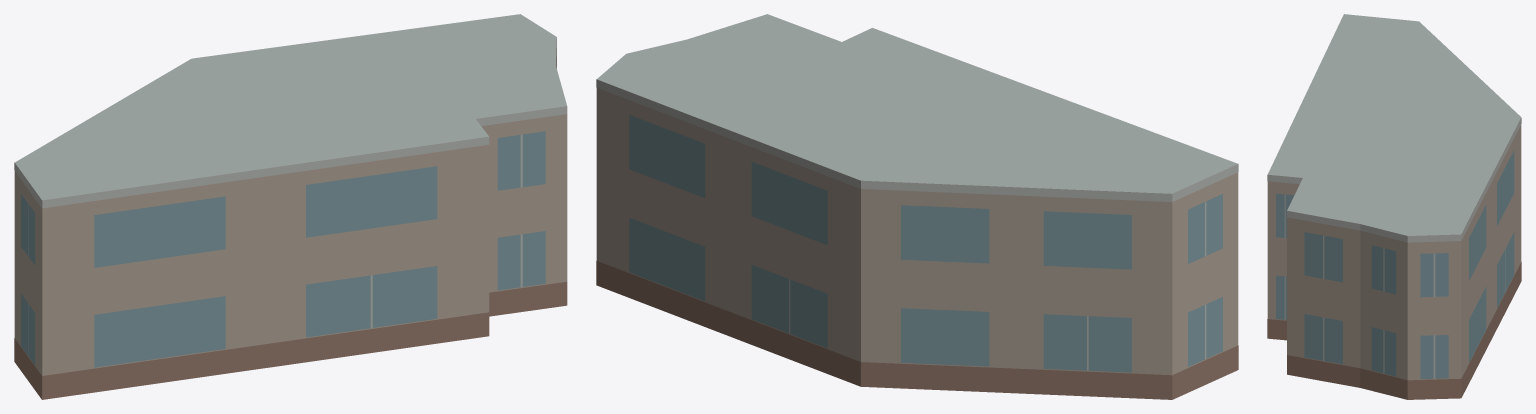
Rendered from survey-upis-33031118.glb.
The picture shows the model from 3 angles, left to right: view 1: azimuth 30°, elevation 25°; view 2: azimuth 150°, elevation 25°; view 3: azimuth 270°, elevation 25°; orthographic projection. The views are drawn at different scales.
Visible parts, largest first — view 1: survey-upis-33031118.tmp; view 2: survey-upis-33031118.tmp; view 3: survey-upis-33031118.tmp.
Part boxes in pixels (x1,y1,x2,y2): survey-upis-33031118.tmp: [14, 14, 567, 399]; survey-upis-33031118.tmp: [596, 14, 1238, 399]; survey-upis-33031118.tmp: [1267, 14, 1521, 399].
Size of the model in its own units: 17.74 by 6.1 by 8.58.
